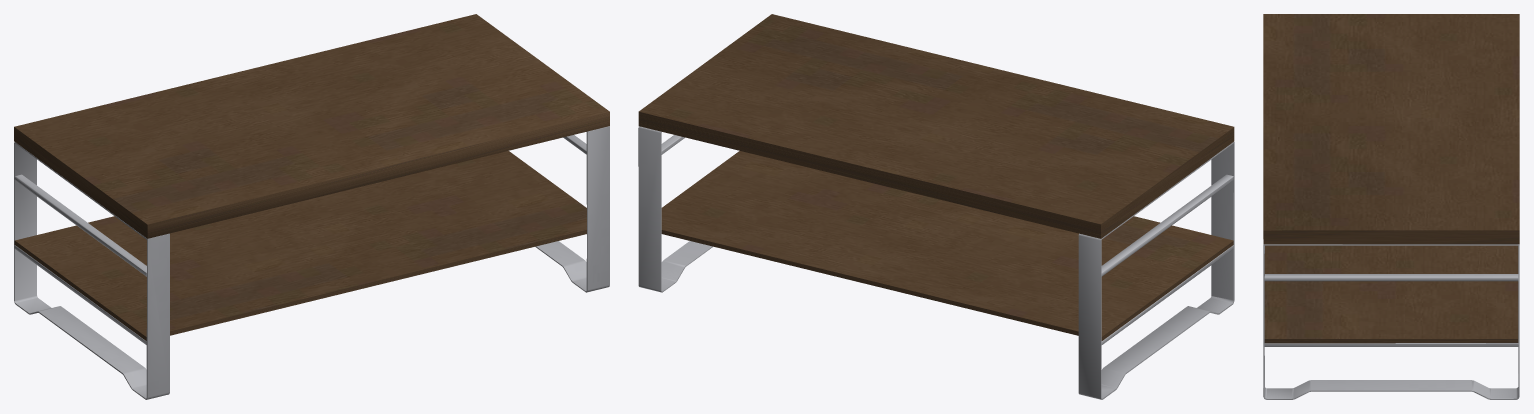
The model's file is simready-table-coffee-low.lite.18558e5e.glb.
3 views of the same model, side by side, from view 1: azimuth 30°, elevation 25°; view 2: azimuth 150°, elevation 25°; view 3: azimuth 270°, elevation 25° (orthographic). The views are drawn at different scales.
Parts seen in each view (by area): view 1: model; view 2: model; view 3: model.
Part boxes in pixels (x1=…): model: x1=14, y1=14, x2=609, y2=399; model: x1=638, y1=14, x2=1234, y2=399; model: x1=1263, y1=14, x2=1519, y2=399.
Size of the model in its own units: 1.2 by 0.4426 by 0.6.
Materials: 3 (3 with a texture image).
